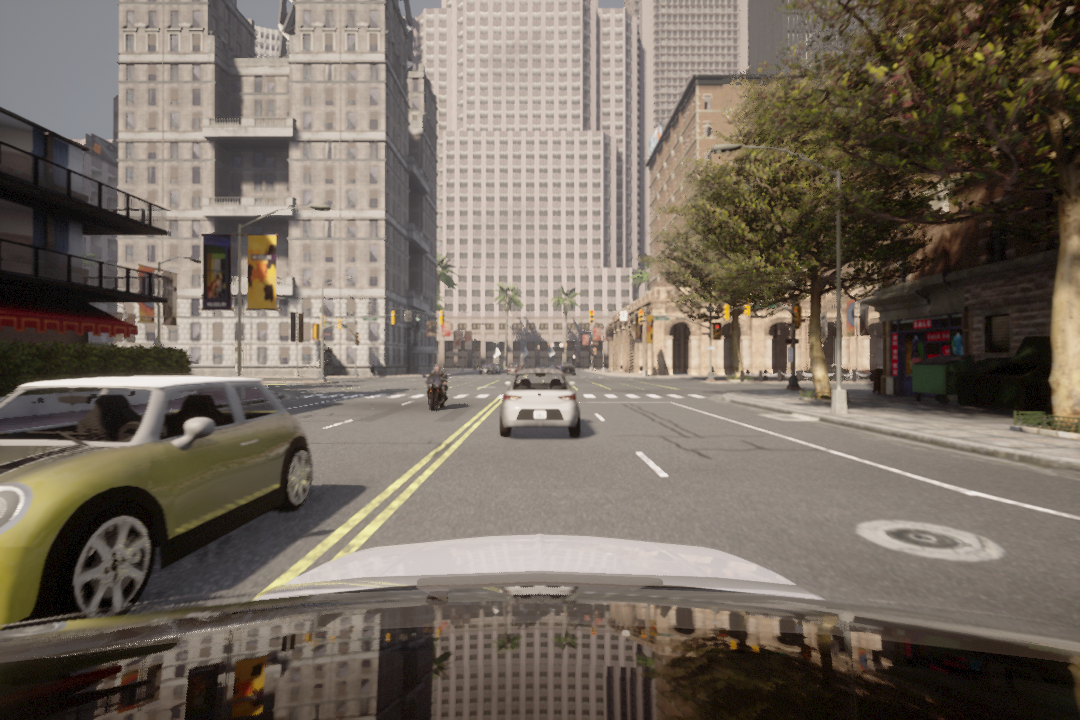walkside: (295, 391, 734, 405)
